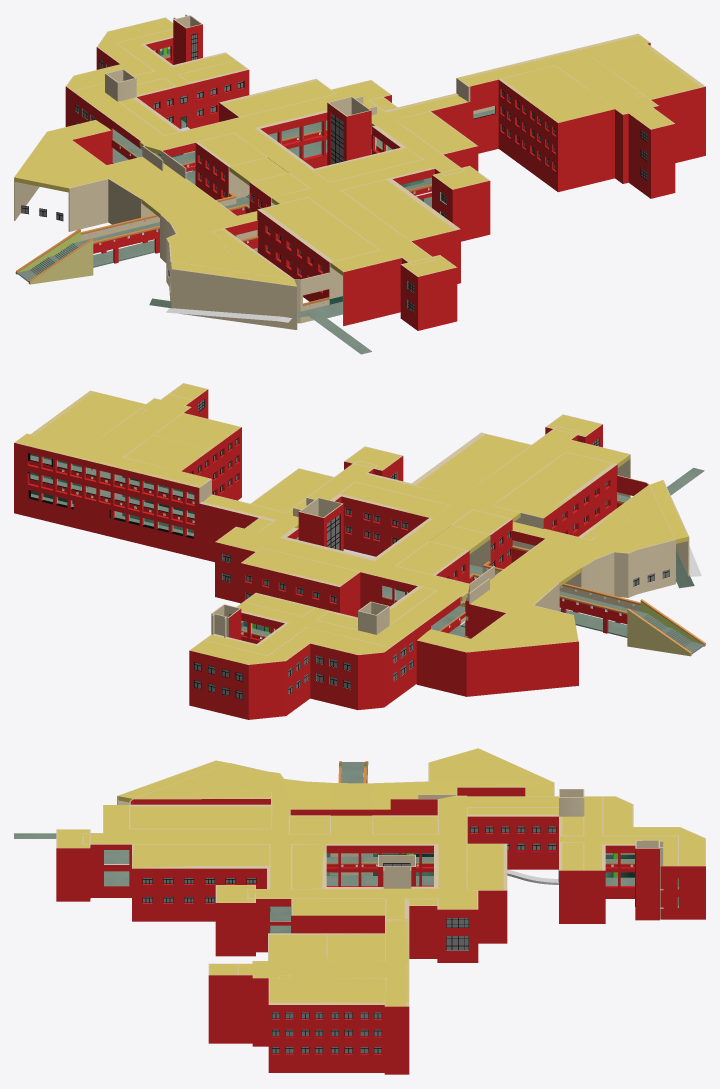
File: acads1.fbx
The picture shows the model from 3 angles, top to bottom: view 1: azimuth 30°, elevation 25°; view 2: azimuth 150°, elevation 25°; view 3: azimuth 270°, elevation 25°; orthographic projection. The views are drawn at different scales.
Parts seen in each view (by area): view 1: Vert.005, Vert, Vert.002, Vert.004, Vert.003, Vert.006, Vert.001, okokokok, Plane.056, road_0001-road_material.009, road_0001-road_material.003, Plane.088 (+3 smaller); view 2: Vert.005, Vert, Vert.002, Vert.003, Vert.004, Vert.006, Vert.001, Plane.056, okokokok, Cube.024, road_0001-road_material.003, road_0001-road_material.009 (+3 smaller); view 3: Vert, Vert.005, Vert.002, Vert.004, Vert.006, Vert.001, Vert.003, road_0001-road_material.009, Plane.006, road_0001-road_material.003, Plane.010, Plane.017.
Part boxes in pixels (x1,y1,x2,y2): Vert.005: (67, 18, 488, 276); Vert: (65, 17, 490, 330); Vert.002: (456, 33, 705, 198); Vert.004: (14, 120, 296, 285); Vert.003: (14, 120, 329, 329); Vert.006: (457, 34, 702, 128); Vert.001: (173, 14, 376, 165); okokokok: (80, 193, 258, 253); Plane.056: (15, 228, 93, 284); road_0001-road_material.009: (112, 120, 431, 354); road_0001-road_material.003: (112, 53, 494, 189); Plane.088: (93, 240, 154, 267); Vert.005: (190, 415, 630, 664); Vert: (189, 414, 630, 719); Vert.002: (14, 383, 241, 558); Vert.003: (416, 475, 689, 696); Vert.004: (417, 480, 688, 652); Vert.006: (15, 383, 240, 487); Vert.001: (211, 497, 343, 639); Plane.056: (627, 599, 705, 656); okokokok: (469, 545, 640, 624); Cube.024: (38, 456, 187, 536); road_0001-road_material.003: (30, 474, 465, 637); road_0001-road_material.009: (31, 467, 704, 636); Vert: (56, 789, 705, 962); Vert.005: (57, 795, 704, 918); Vert.002: (208, 919, 409, 1074); Vert.004: (118, 748, 553, 815); Vert.006: (209, 919, 408, 1006); Vert.001: (378, 840, 663, 920); Vert.003: (117, 748, 554, 815); road_0001-road_material.009: (14, 833, 677, 933); Plane.006: (272, 1012, 381, 1053); road_0001-road_material.003: (104, 852, 677, 921); Plane.010: (142, 878, 256, 902); Plane.017: (470, 826, 556, 850).
Size of the model in its own units: 12855 by 1486 by 12131.
